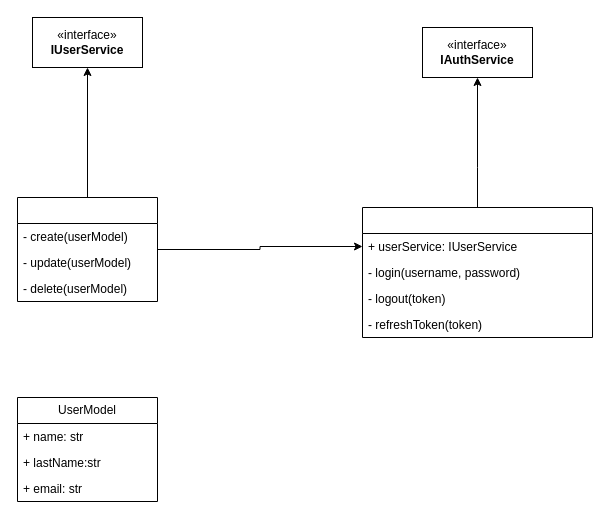
Image size: 610x522. Some labels were removed from this diagram. Each missing label, with the box of its shape:
AuthService: (362, 206, 592, 338)
UserService: (16, 196, 158, 302)
